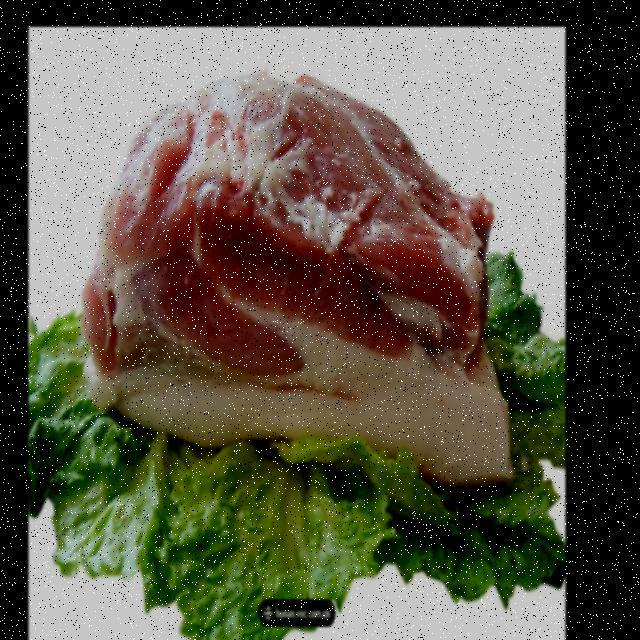pork: (83, 73, 517, 517)
